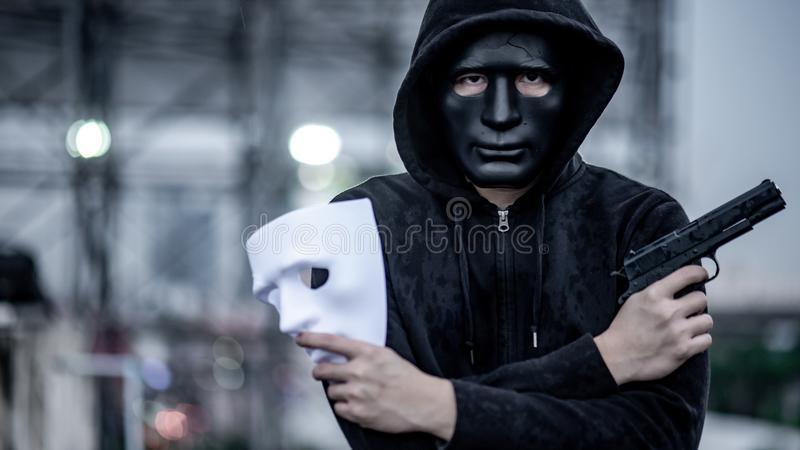criminal: (293, 0, 791, 450)
weapon: (608, 176, 790, 316)
